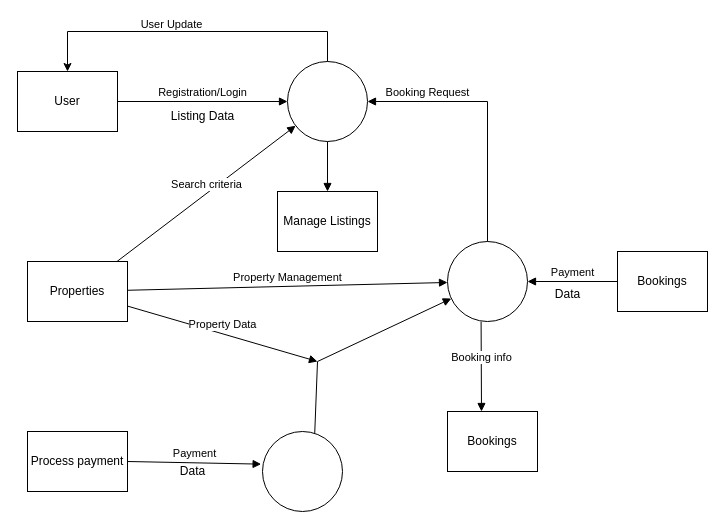
Some shapes in this 725 by 529 pixel diagram are drawn without their labels. Each missing label, with the centre of its shape:
"Handle Bookings" belongs at [487,281].
"Process paymnet" belongs at [302,471].
"System" belongs at [327,101].
